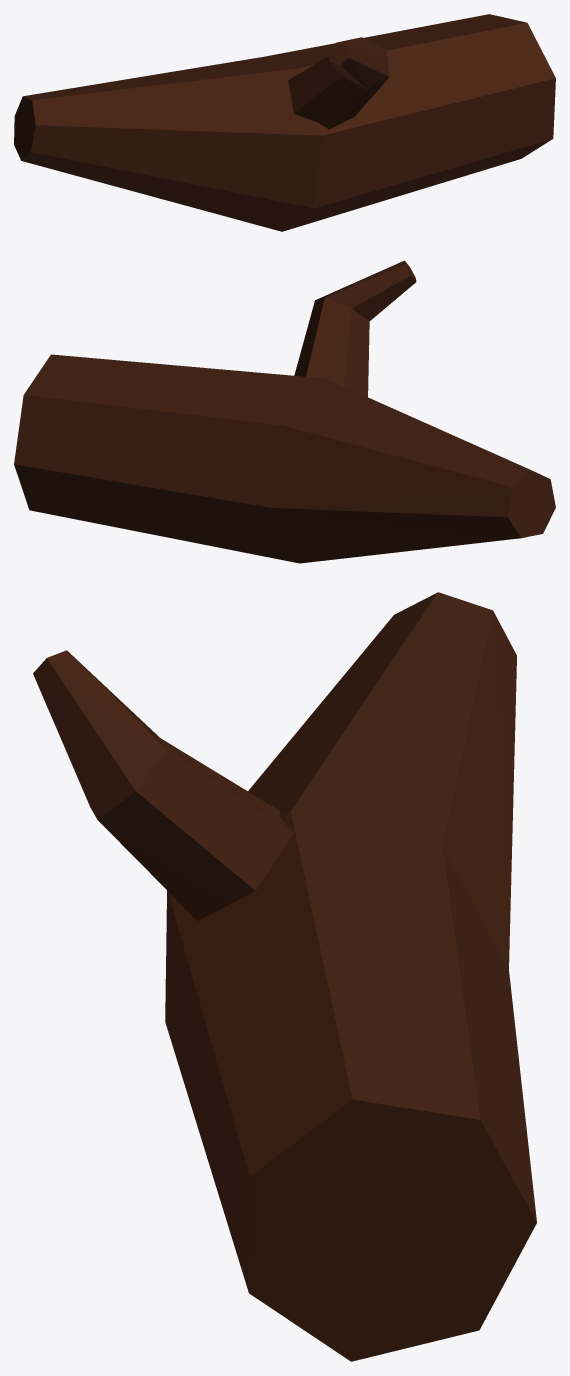
Rendered from N27_Submerged_Wood.fbx.
3 renders of one model, top to bottom at view 1: azimuth 30°, elevation 25°; view 2: azimuth 150°, elevation 25°; view 3: azimuth 270°, elevation 25°, orthographic. The views are drawn at different scales.
Parts seen in each view (by area): view 1: N27_Submerged_Wood; view 2: N27_Submerged_Wood; view 3: N27_Submerged_Wood.
Boxes of the visible parts, x1,y1,x2,y2 form: N27_Submerged_Wood: (14, 14, 555, 231); N27_Submerged_Wood: (14, 260, 555, 563); N27_Submerged_Wood: (33, 592, 536, 1361).
Size of the model in its own units: 1.19 by 0.5357 by 0.5302.
Materials: 1 (1 with a texture image).
